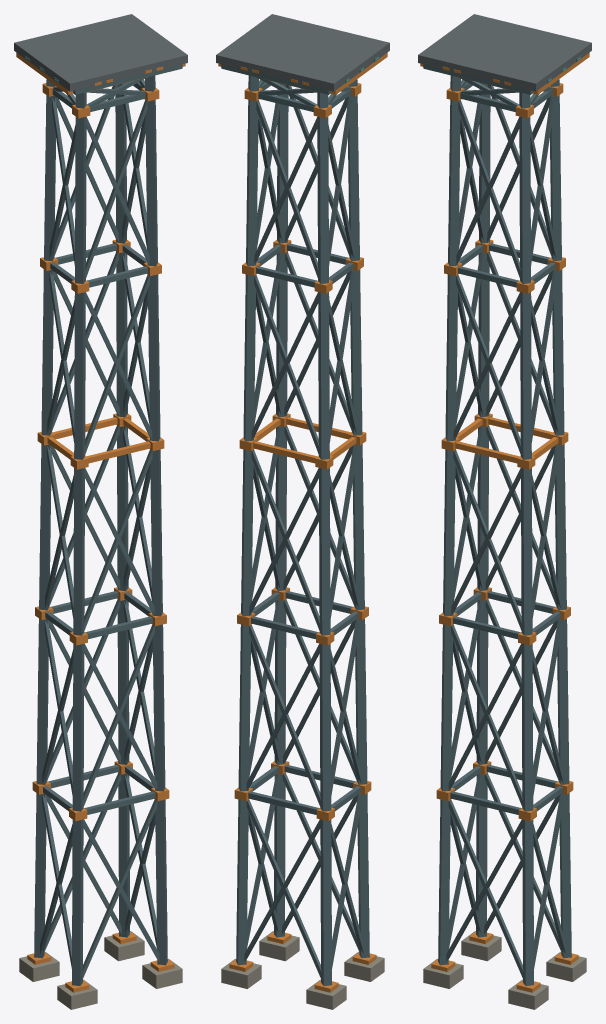
The model's file is w7a-mast-receiver.glb.
The picture shows the model from 3 angles, left to right: view 1: azimuth 30°, elevation 25°; view 2: azimuth 150°, elevation 25°; view 3: azimuth 330°, elevation 25°; orthographic projection.
Parts seen in each view (by area): view 1: Mast 4 freestanding braced frame, Mast 4 exact deck floor; view 2: Mast 4 freestanding braced frame, Mast 4 exact deck floor; view 3: Mast 4 freestanding braced frame, Mast 4 exact deck floor.
Part boxes in pixels (left/top/right/bottom): Mast 4 freestanding braced frame: left=16, top=52, right=185, bottom=1009; Mast 4 exact deck floor: left=14, top=14, right=187, bottom=91; Mast 4 freestanding braced frame: left=218, top=52, right=387, bottom=1009; Mast 4 exact deck floor: left=216, top=14, right=389, bottom=91; Mast 4 freestanding braced frame: left=420, top=52, right=589, bottom=1009; Mast 4 exact deck floor: left=418, top=14, right=591, bottom=91.
Size of the model in its own units: 3.44 by 25.6 by 2.82.
